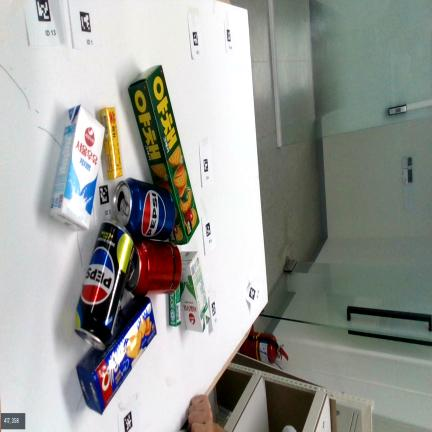can_coke_zero: (126, 240, 181, 296)
can_pepsi: (113, 178, 175, 240)
can_pepsi_zero: (75, 221, 134, 349)
cracker_ace: (76, 297, 156, 414)
cracker_vege: (128, 65, 199, 244)
gum_green: (169, 288, 181, 326)
gum_yellow: (100, 108, 123, 181)
milk_blue: (50, 105, 104, 230)
milk_green: (180, 253, 211, 332)
